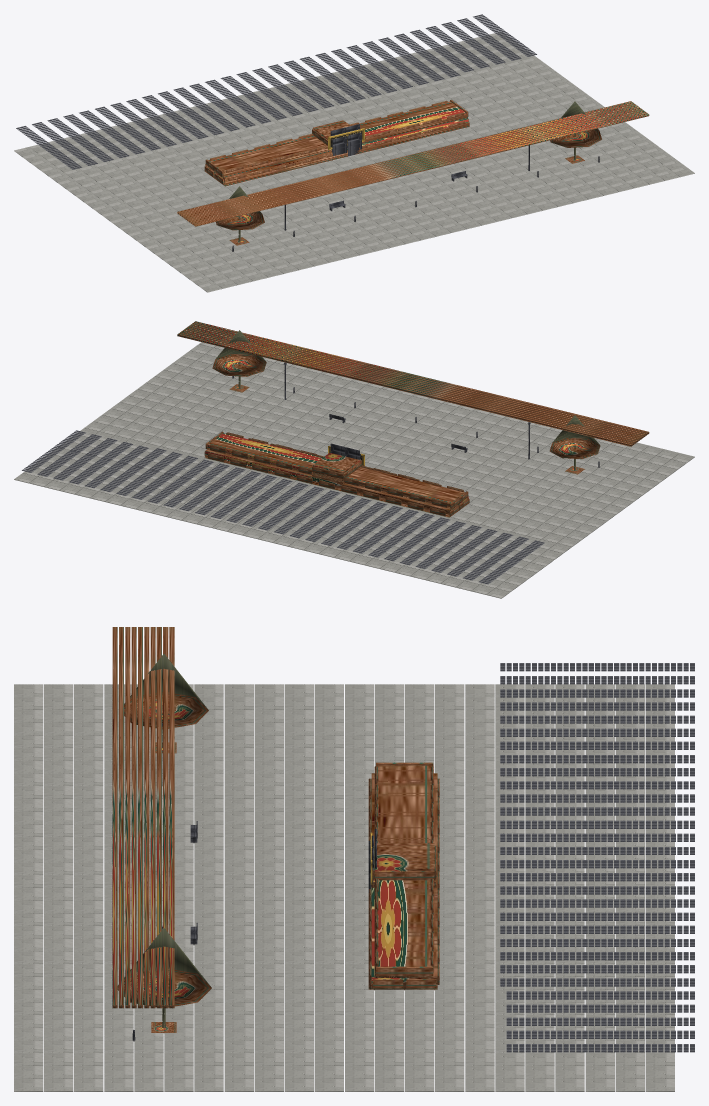
The picture shows the model from 3 angles, top to bottom: view 1: azimuth 30°, elevation 25°; view 2: azimuth 150°, elevation 25°; view 3: azimuth 270°, elevation 25°; orthographic projection. The views are drawn at different scales.
Parts seen in each view (by area): view 1: 11140_02_04621_029_01__plinth_ground_base, 11140_02_04621_029_03__roof_deck_structure, 11140_02_04621_029_02__mass_body_facade, 11140_02_04621_029_06__landscape_greenery, 11140_02_04621_029_05__door_hardware_iron, 11140_02_04621_029_05__window_sash_glass; view 2: 11140_02_04621_029_01__plinth_ground_base, 11140_02_04621_029_03__roof_deck_structure, 11140_02_04621_029_02__mass_body_facade, 11140_02_04621_029_06__landscape_greenery, 11140_02_04621_029_05__door_hardware_iron; view 3: 11140_02_04621_029_01__plinth_ground_base, 11140_02_04621_029_03__roof_deck_structure, 11140_02_04621_029_02__mass_body_facade, 11140_02_04621_029_06__landscape_greenery, 11140_02_04621_029_05__door_hardware_iron.
Boxes of the visible parts, left/top/right/bottom form: 11140_02_04621_029_01__plinth_ground_base: left=14, top=32, right=694, bottom=292; 11140_02_04621_029_03__roof_deck_structure: left=16, top=14, right=536, bottom=169; 11140_02_04621_029_02__mass_body_facade: left=177, top=99, right=649, bottom=226; 11140_02_04621_029_06__landscape_greenery: left=216, top=101, right=601, bottom=245; 11140_02_04621_029_05__door_hardware_iron: left=232, top=124, right=599, bottom=251; 11140_02_04621_029_05__window_sash_glass: left=227, top=113, right=464, bottom=182; 11140_02_04621_029_01__plinth_ground_base: left=14, top=342, right=694, bottom=598; 11140_02_04621_029_03__roof_deck_structure: left=22, top=430, right=544, bottom=584; 11140_02_04621_029_02__mass_body_facade: left=177, top=321, right=649, bottom=517; 11140_02_04621_029_06__landscape_greenery: left=212, top=330, right=600, bottom=474; 11140_02_04621_029_05__door_hardware_iron: left=232, top=362, right=599, bottom=467; 11140_02_04621_029_01__plinth_ground_base: left=14, top=684, right=674, bottom=1091; 11140_02_04621_029_03__roof_deck_structure: left=500, top=663, right=694, bottom=1052; 11140_02_04621_029_02__mass_body_facade: left=112, top=627, right=439, bottom=1008; 11140_02_04621_029_06__landscape_greenery: left=117, top=654, right=211, bottom=1032; 11140_02_04621_029_05__door_hardware_iron: left=132, top=723, right=376, bottom=1041.
Size of the model in its own units: 63.95 by 7.4 by 45.27.
7 materials, 7 textured.
